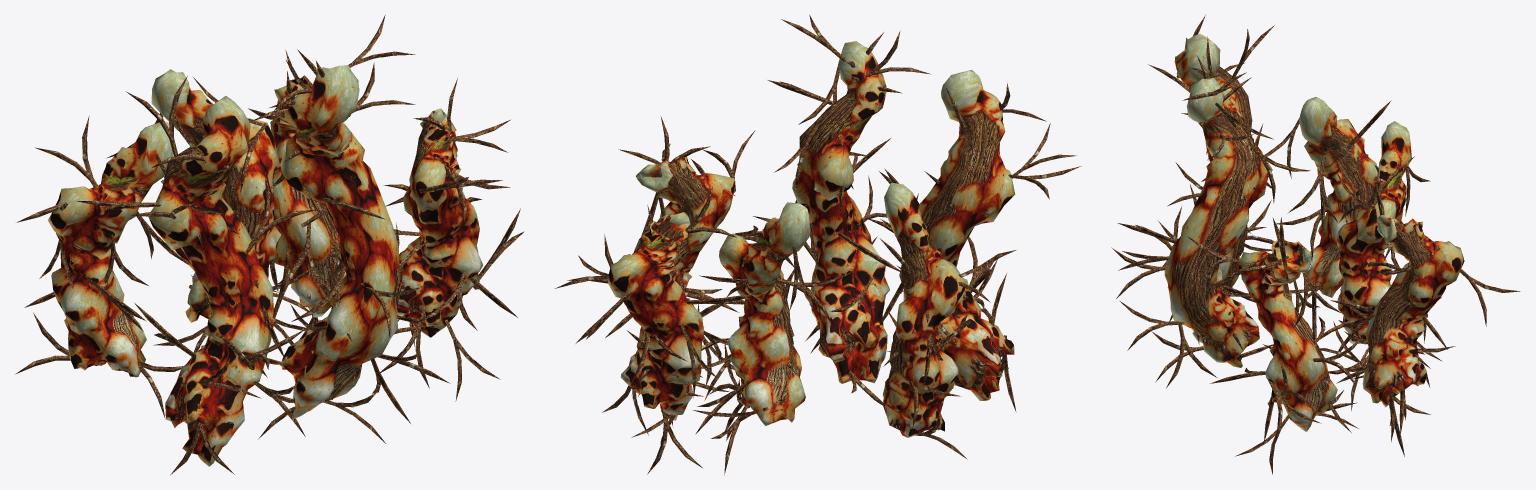
Rendered from tree.FBX.
The picture shows the model from 3 angles, left to right: view 1: azimuth 30°, elevation 25°; view 2: azimuth 150°, elevation 25°; view 3: azimuth 270°, elevation 25°; orthographic projection. The views are drawn at different scales.
Visible parts, largest first — view 1: BlobMesh006; view 2: BlobMesh006; view 3: BlobMesh006.
Part boxes in pixels (bbox=[...]): BlobMesh006: bbox=[15, 15, 524, 475]; BlobMesh006: bbox=[554, 14, 1081, 475]; BlobMesh006: bbox=[1111, 15, 1520, 474].
Size of the model in its own units: 741 by 631 by 653.
Materials: 1 (1 with a texture image).
